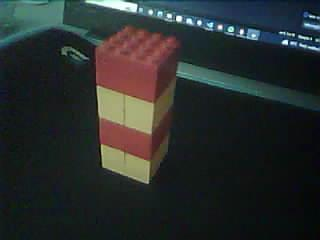lego: (95, 24, 182, 185)
